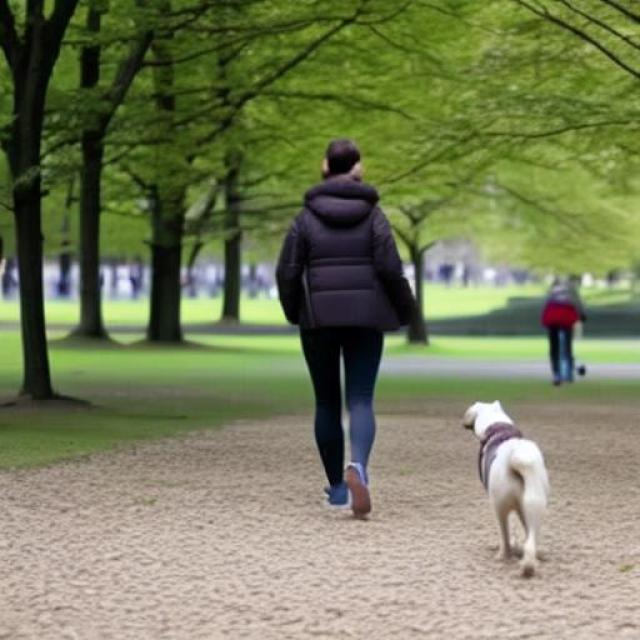Unleashed_Dog: (316, 309, 550, 580)
